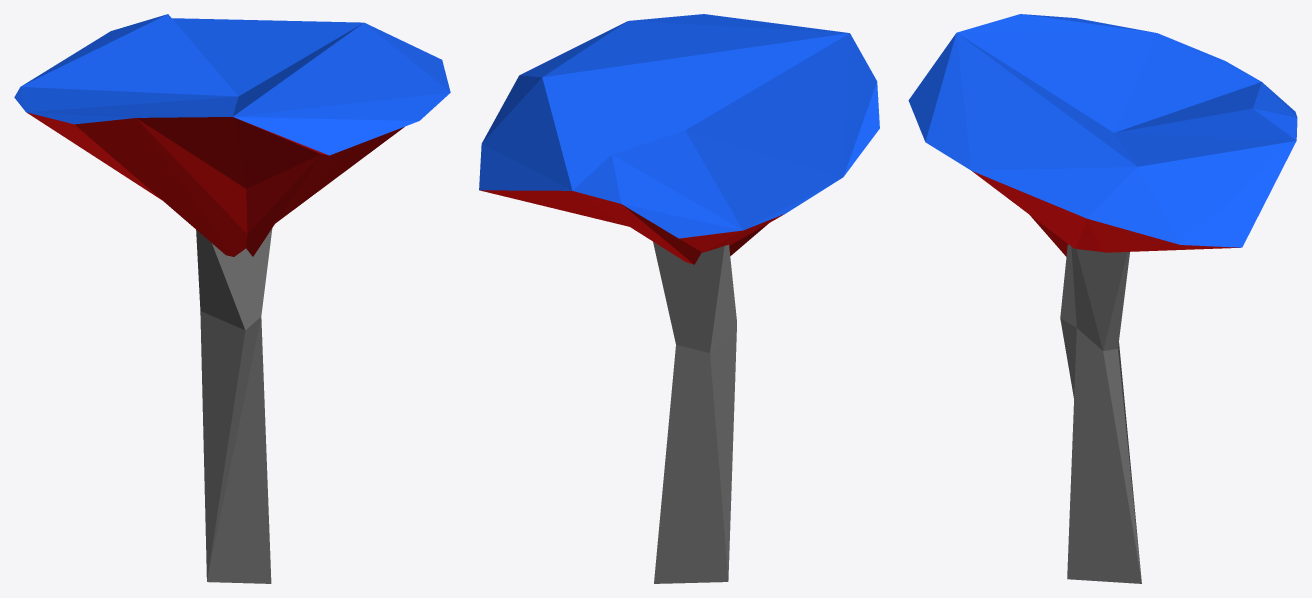
File: FungiRussula02.fbx
3 views of the same model, side by side, from view 1: azimuth 30°, elevation 25°; view 2: azimuth 150°, elevation 25°; view 3: azimuth 270°, elevation 25° (orthographic). The views are drawn at different scales.
Parts seen in each view (by area): view 1: FungiRussula02; view 2: FungiRussula02; view 3: FungiRussula02.
Part boxes in pixels (left/top/right/bottom): FungiRussula02: left=14, top=14, right=450, bottom=583; FungiRussula02: left=479, top=14, right=879, bottom=583; FungiRussula02: left=908, top=14, right=1297, bottom=583.
Bounding box in the file's own units: 36.57 × 49.27 × 34.61.
